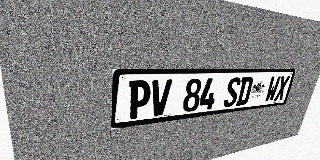4: (198, 78, 219, 111)
8: (182, 78, 203, 113)
D: (235, 77, 254, 106)
P: (127, 80, 152, 120)
S: (223, 77, 242, 107)
V: (149, 79, 172, 117)
W: (264, 76, 281, 102)
X: (274, 76, 290, 101)
